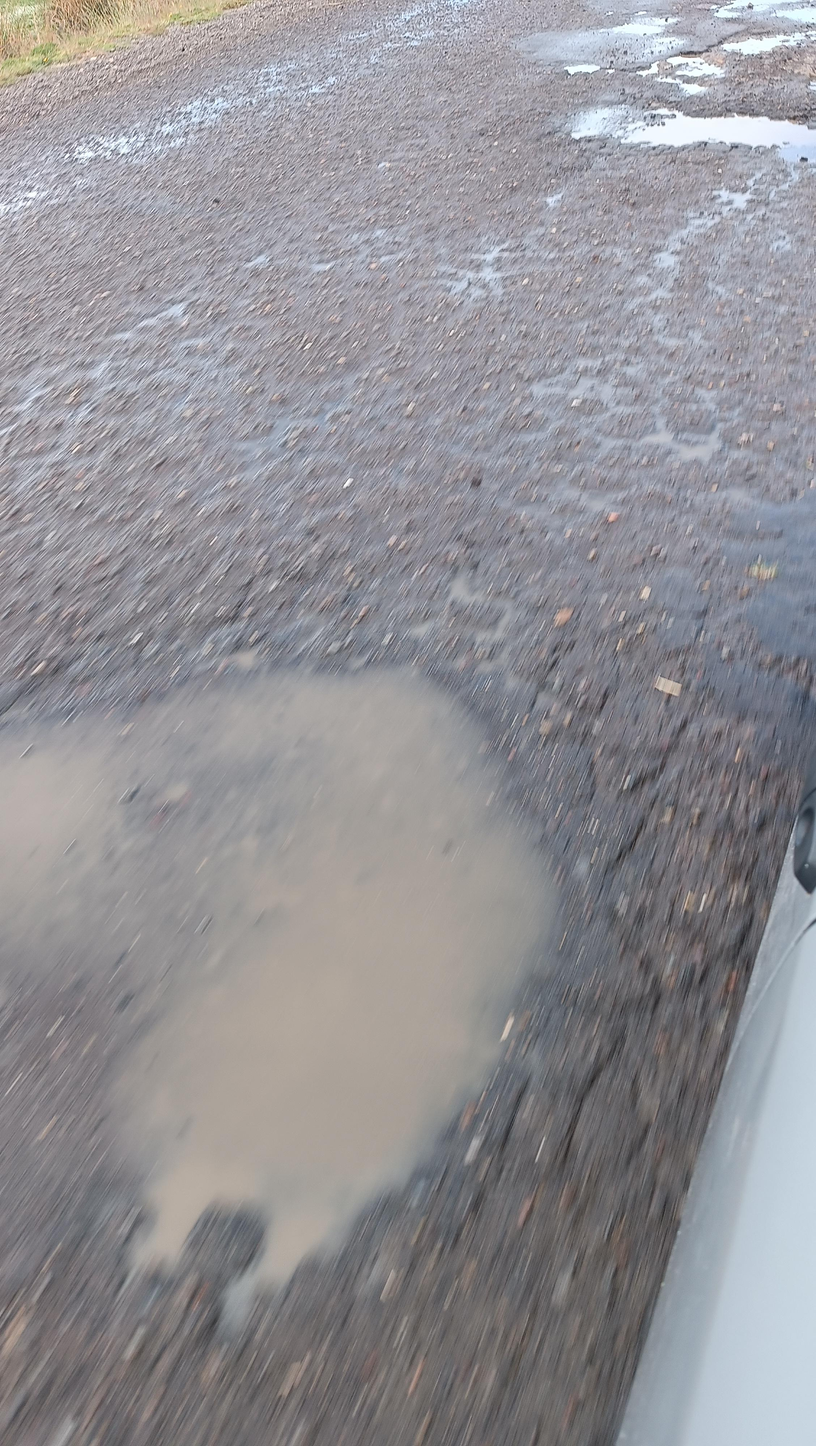BACHE: (0, 650, 589, 1303), (646, 0, 814, 90), (595, 107, 813, 172)
PARCHE: (723, 499, 816, 660)
PIEL DE COCODRILO: (28, 216, 769, 630), (454, 627, 792, 1293)
